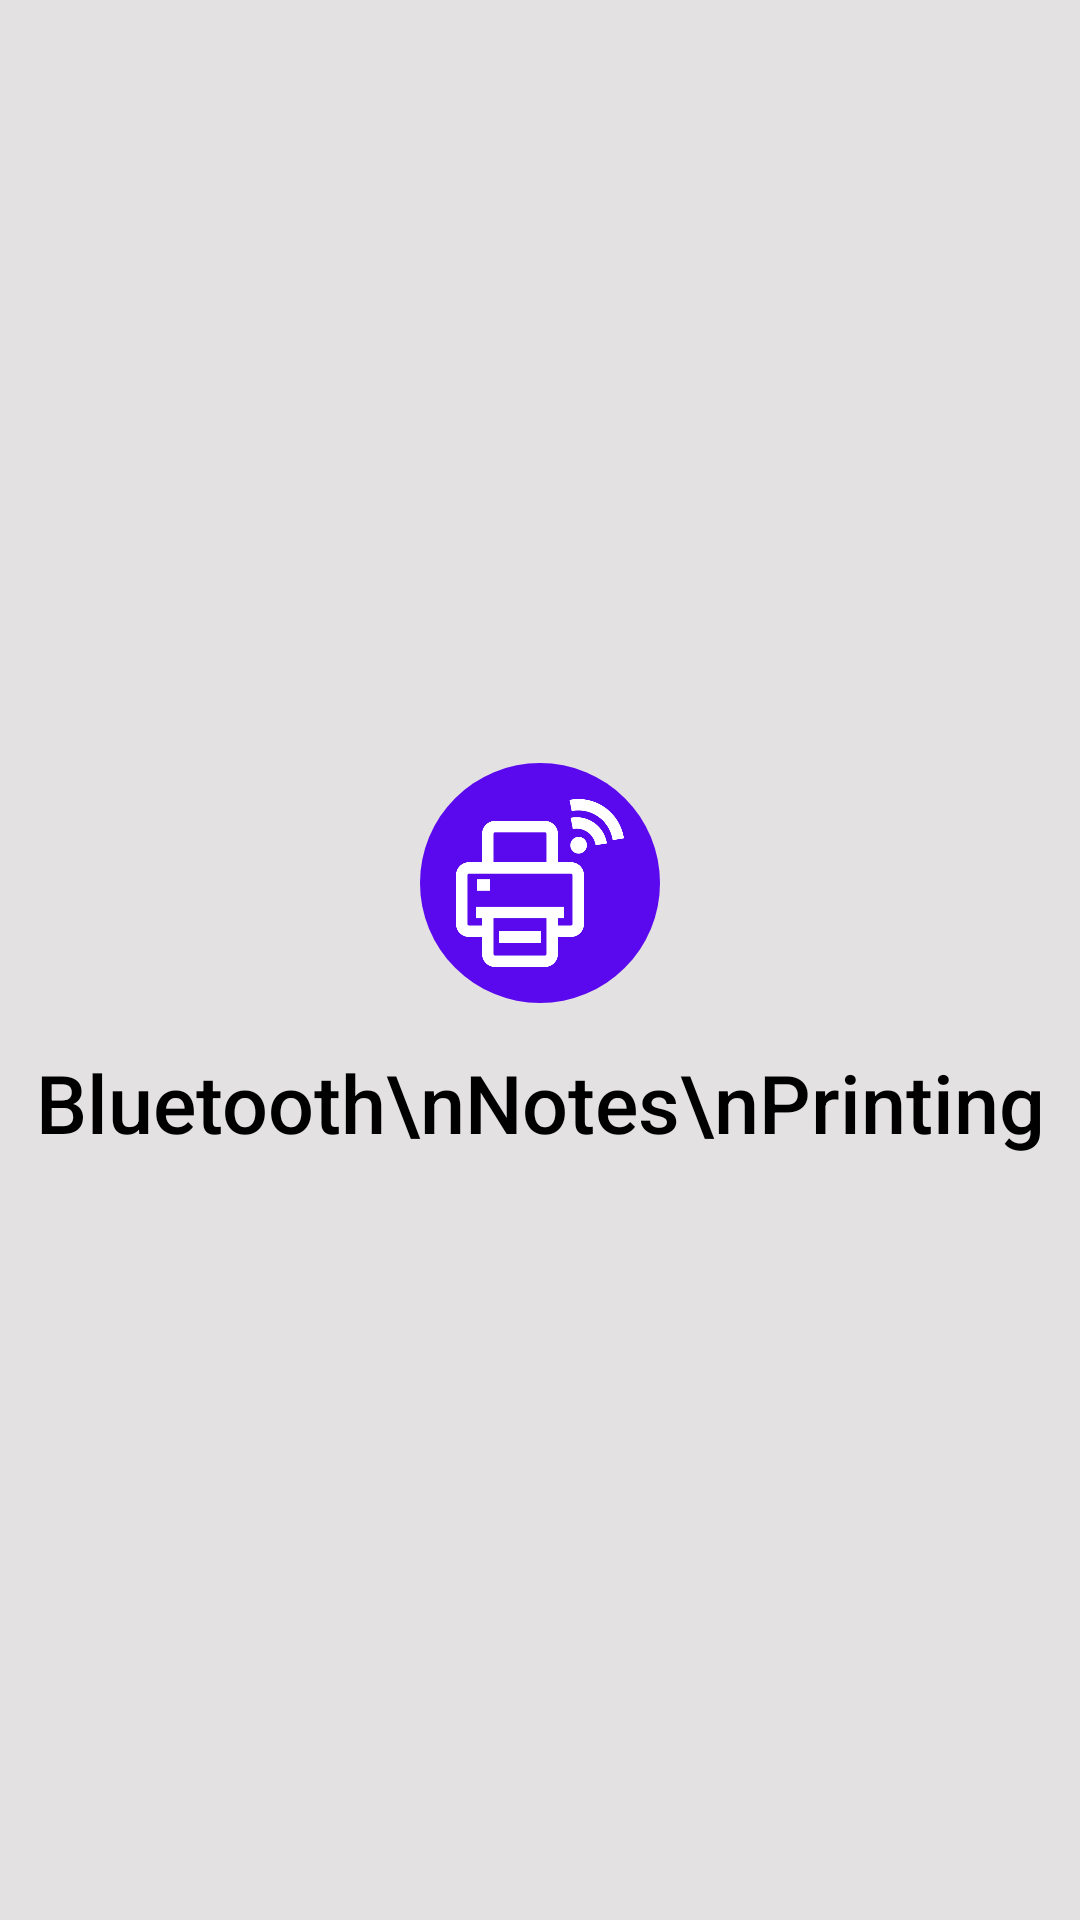

Named icons in this screenshot (1080x1920) and their bounding boxes, Rect(x1, y1, x2, y2):
bluetooth printer: Rect(420, 763, 660, 1003)
